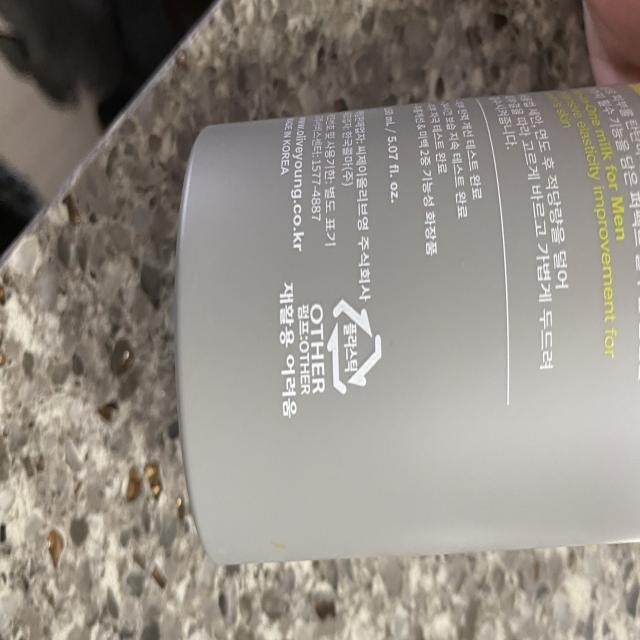Plastic: (325, 292, 384, 398)
